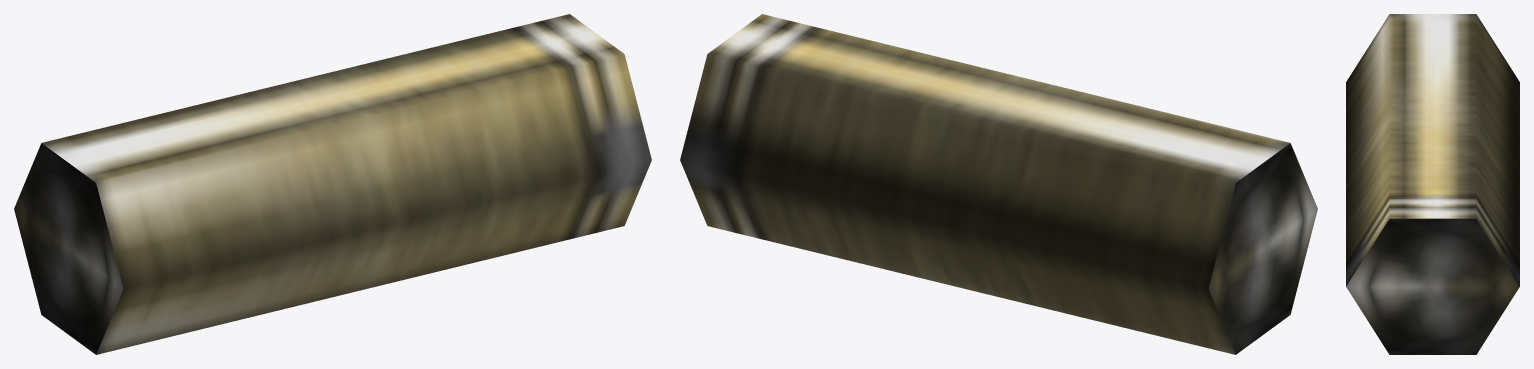
The model's file is HandgunShell.fbx.
3 renders of one model, left to right at view 1: azimuth 30°, elevation 25°; view 2: azimuth 150°, elevation 25°; view 3: azimuth 270°, elevation 25°, orthographic. The views are drawn at different scales.
Visible parts, largest first — view 1: GunShell; view 2: GunShell; view 3: GunShell.
Boxes of the visible parts, <box> form: GunShell: <box>14,14,651,354</box>; GunShell: <box>680,14,1317,354</box>; GunShell: <box>1346,14,1519,354</box>.
Bounding box in the file's own units: 2.9 × 0.9013 × 1.04.
